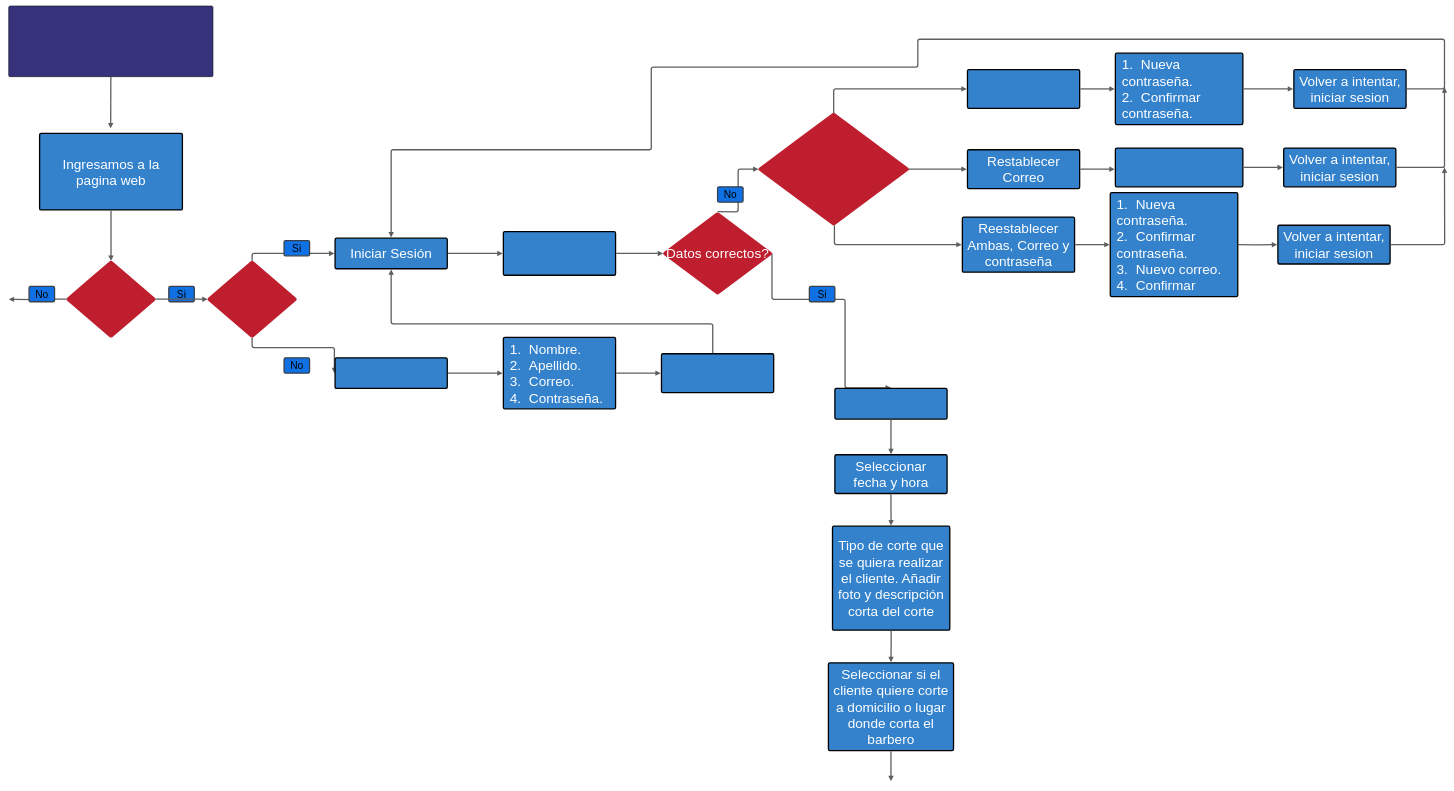
Image size: 1454x791. Some labels were removed from this diagram. Each missing label, with the box of its shape:
Agendar cita: (834, 388, 948, 420)
Correo. Contraseña.: (503, 231, 616, 276)
Inicio: (8, 6, 213, 77)
Listo para iniciar sesión: (661, 353, 774, 393)
Nuevo correo. Confirmar correo.: (1115, 147, 1243, 187)
Que quieres reestablecer?: (758, 112, 909, 226)
Registrarse: (334, 357, 448, 389)
Reservar cita?: (66, 260, 156, 338)
Restablecer Contraseña: (967, 69, 1080, 109)
Tienes cuenta?: (207, 260, 297, 338)
